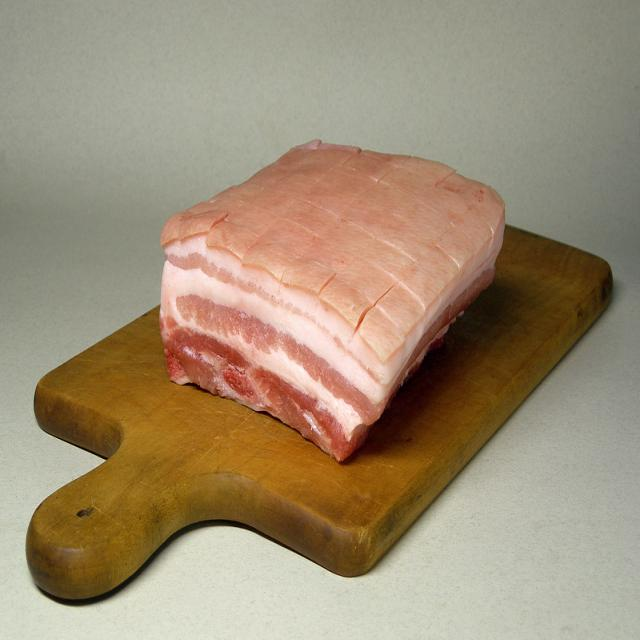pork: (166, 133, 474, 450)
